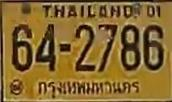2: (74, 24, 94, 71)
4: (35, 23, 55, 70)
6: (11, 24, 31, 70), (143, 24, 163, 69)
7: (97, 24, 117, 72)
8: (120, 24, 139, 70)
BKK: (34, 78, 142, 98)
